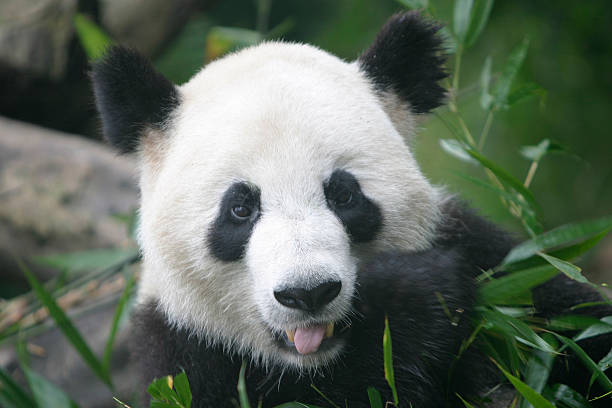panda: (66, 2, 489, 403)
